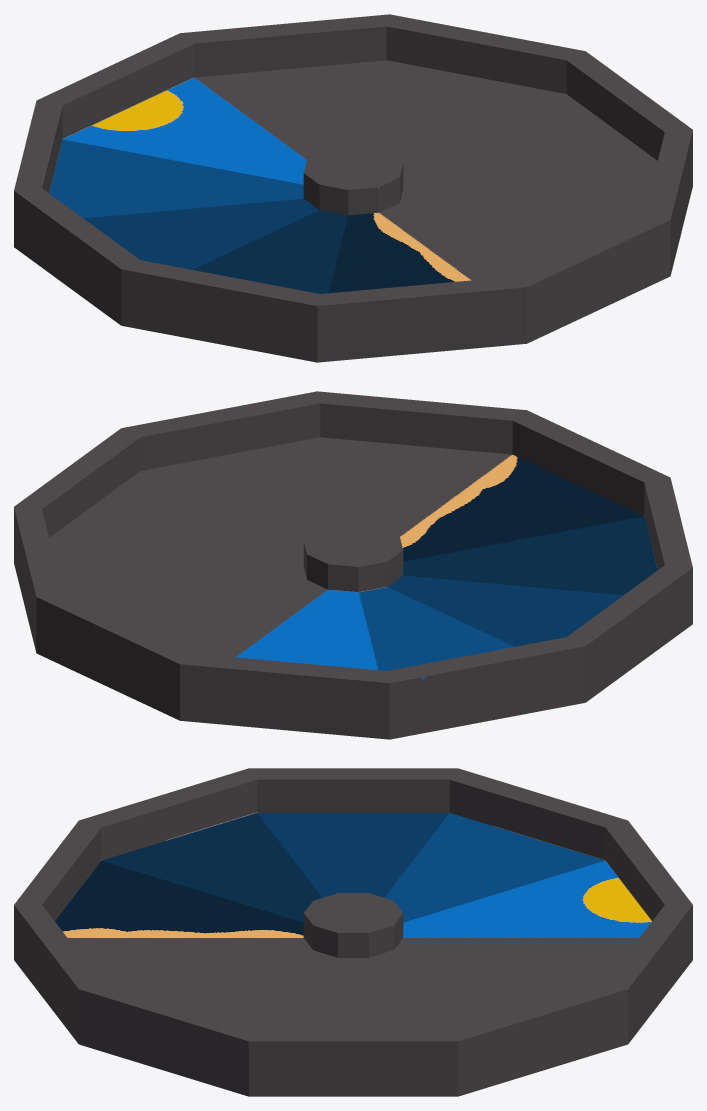
The model's file is DialBaseBattery.fbx.
3 views of the same model, one above another, from view 1: azimuth 30°, elevation 25°; view 2: azimuth 150°, elevation 25°; view 3: azimuth 270°, elevation 25° (orthographic). The views are drawn at different scales.
Visible parts, largest first — view 1: Cylinder; view 2: Cylinder; view 3: Cylinder.
Boxes of the visible parts, x1,y1,x2,y2 form: Cylinder: (14, 14, 692, 362); Cylinder: (14, 391, 692, 739); Cylinder: (14, 768, 692, 1096).
Bounding box in the file's own units: 207 × 19.59 × 218.
1 material, 1 textured.
